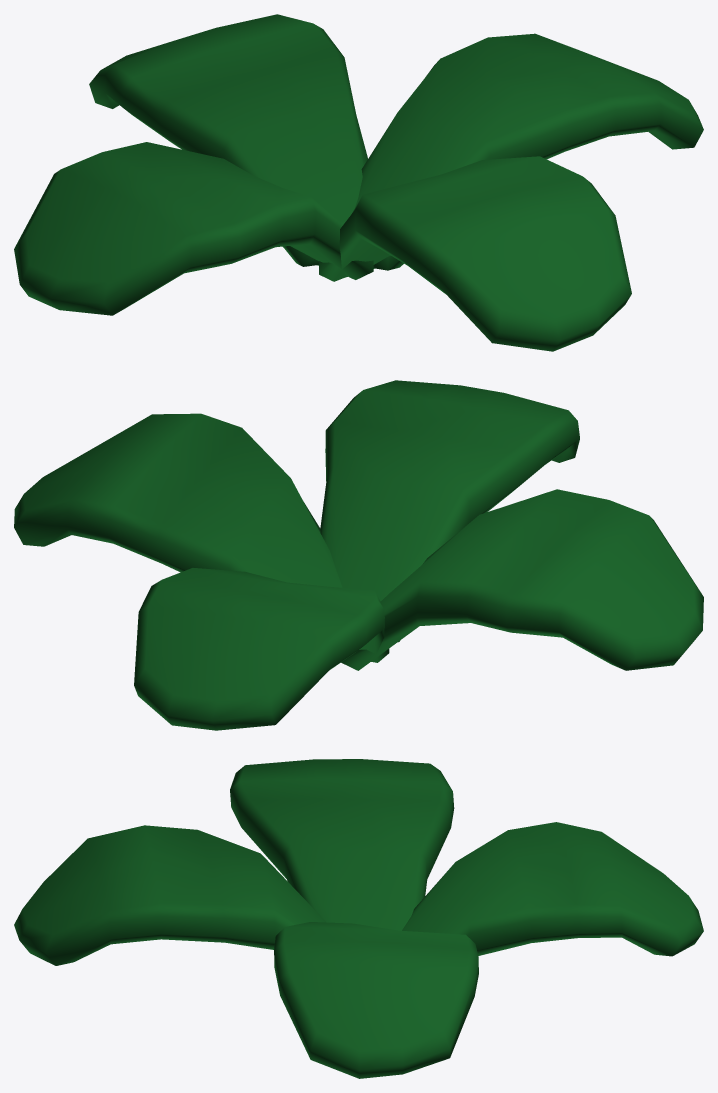
File: TreePalmLeaves.fbx
3 views of the same model, one above another, from view 1: azimuth 30°, elevation 25°; view 2: azimuth 150°, elevation 25°; view 3: azimuth 270°, elevation 25° (orthographic). The views are drawn at different scales.
Visible parts, largest first — view 1: TreePalm:TreePalm11; view 2: TreePalm:TreePalm11; view 3: TreePalm:TreePalm11.
Part boxes in pixels (left/top/right/bottom): TreePalm:TreePalm11: left=14, top=14, right=703, bottom=351; TreePalm:TreePalm11: left=14, top=380, right=703, bottom=730; TreePalm:TreePalm11: left=14, top=759, right=703, bottom=1078.
Bounding box in the file's own units: 6.92 × 1.55 × 7.01.
